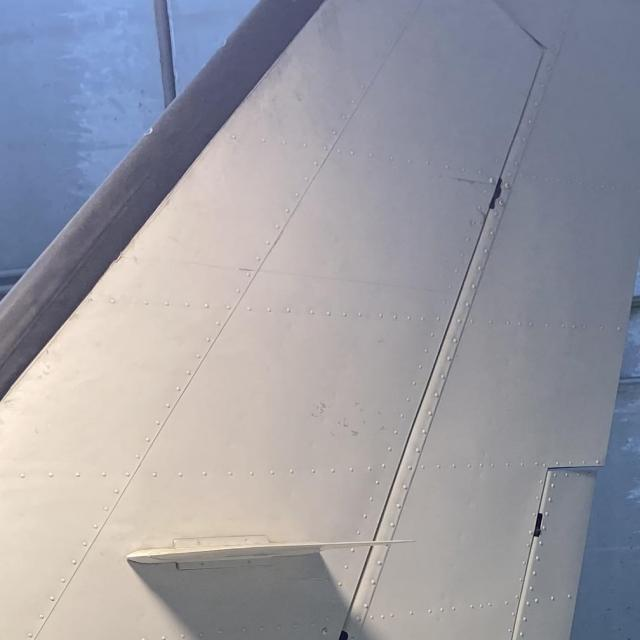Paint-off: (301, 388, 405, 447)
